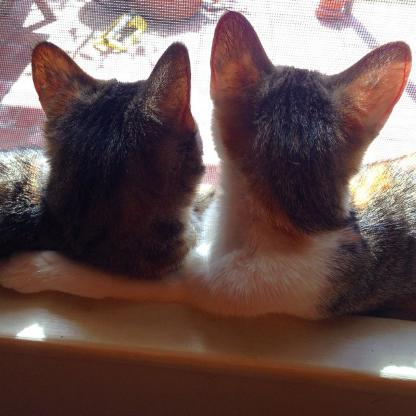Cat: (0, 3, 415, 320), (0, 37, 209, 286)
